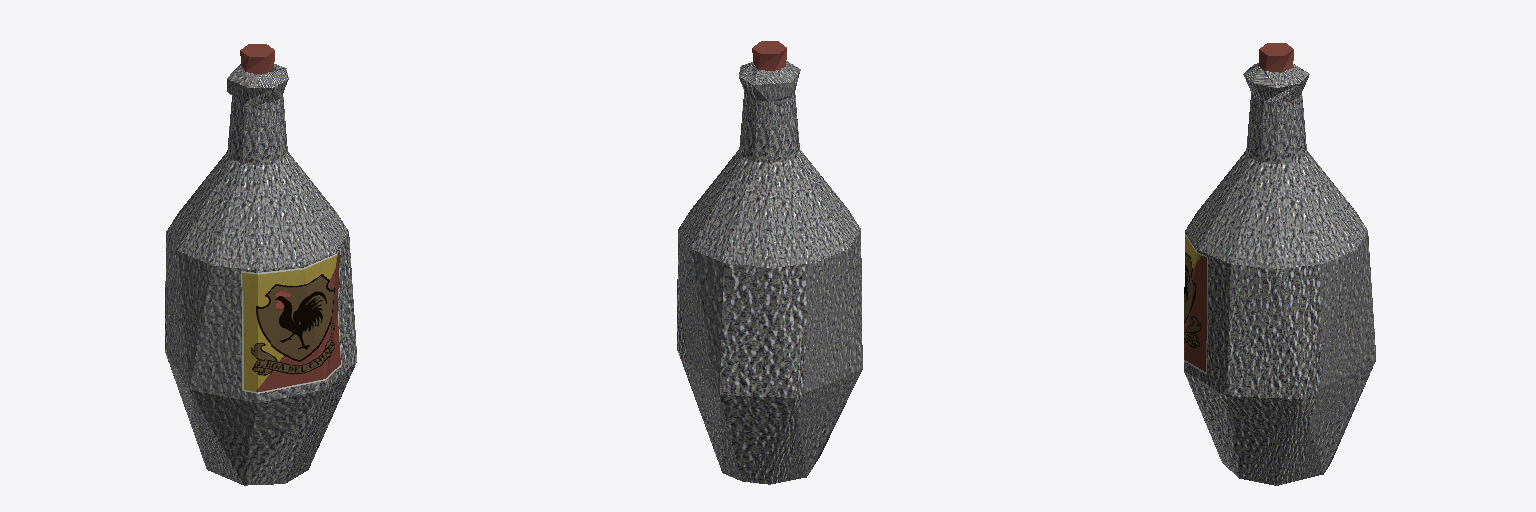
3 views of the same model, side by side, from view 1: azimuth 30°, elevation 25°; view 2: azimuth 150°, elevation 25°; view 3: azimuth 270°, elevation 25° (orthographic).
Parts seen in each view (by area): view 1: Default_Layer; view 2: Default_Layer; view 3: Default_Layer.
Part boxes in pixels (x1,y1,x2,y2): Default_Layer: (165,44,356,485); Default_Layer: (677,41,862,484); Default_Layer: (1184,43,1375,485).
Bounding box in the file's own units: 0.6477 × 1.59 × 0.6709.
Materials: 1 (1 with a texture image).